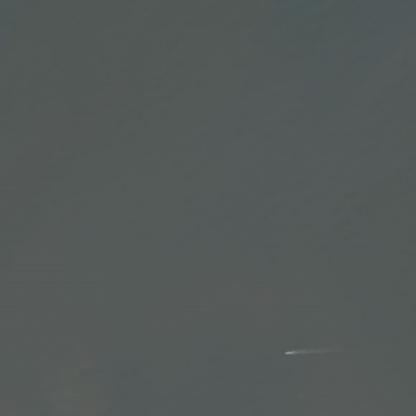ship: (283, 332, 294, 339)
